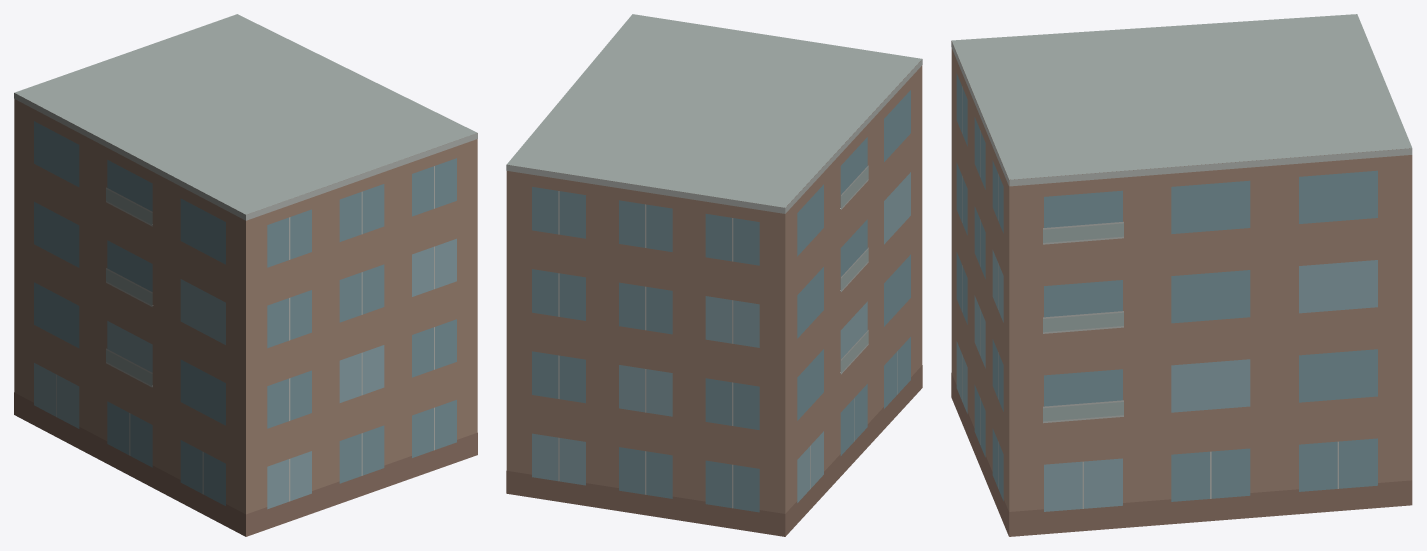
File: survey-upis-33029238.glb
3 views of the same model, side by side, from view 1: azimuth 30°, elevation 25°; view 2: azimuth 150°, elevation 25°; view 3: azimuth 270°, elevation 25° (orthographic). The views are drawn at different scales.
Visible parts, largest first — view 1: survey-upis-33029238.tmp; view 2: survey-upis-33029238.tmp; view 3: survey-upis-33029238.tmp.
Part boxes in pixels (left/top/right/bottom): survey-upis-33029238.tmp: left=14, top=14, right=477, bottom=536; survey-upis-33029238.tmp: left=506, top=14, right=922, bottom=536; survey-upis-33029238.tmp: left=951, top=14, right=1412, bottom=536.
Size of the model in its own units: 13.06 by 13.1 by 15.34.
